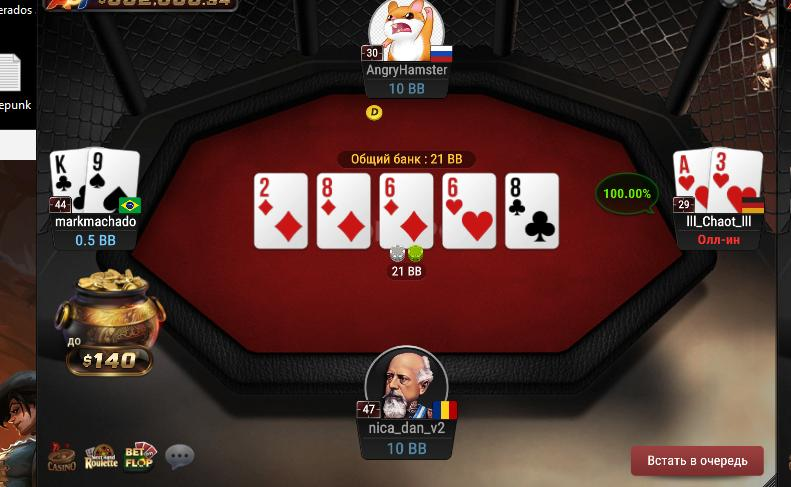2d: (254, 173, 307, 249)
3h: (711, 147, 763, 213)
6d: (379, 173, 433, 247)
6h: (443, 175, 496, 250)
8c: (505, 174, 558, 249)
8d: (317, 173, 371, 249)
9s: (86, 145, 140, 216)
Ah: (673, 151, 709, 213)
Kc: (49, 151, 86, 214)
